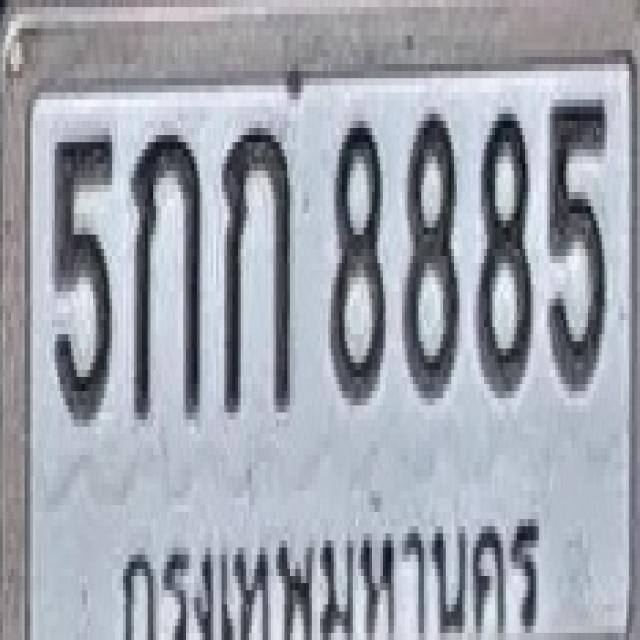5: (547, 93, 607, 391), (52, 128, 112, 420)
8: (402, 107, 460, 398), (328, 114, 386, 398), (476, 107, 530, 391)
A01: (130, 128, 201, 420), (220, 121, 291, 412)
